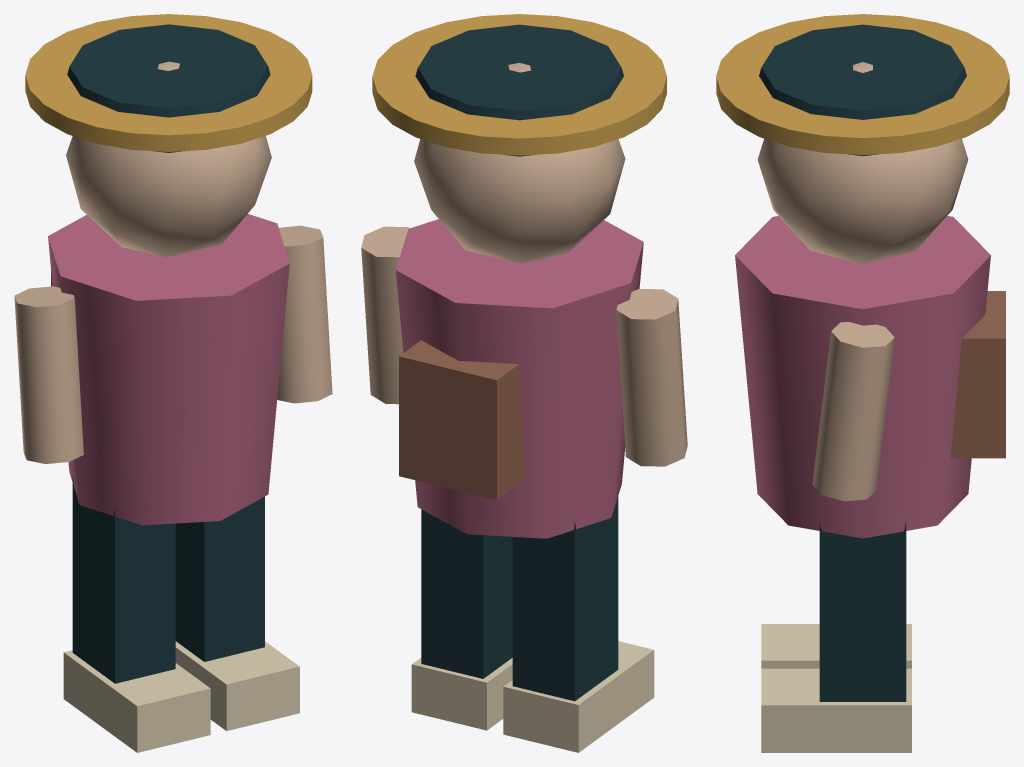
The model's file is guest_e.glb.
3 renders of one model, left to right at view 1: azimuth 30°, elevation 25°; view 2: azimuth 150°, elevation 25°; view 3: azimuth 270°, elevation 25°, orthographic. The views are drawn at different scales.
Visible parts, largest first — view 1: guest_e; view 2: guest_e; view 3: guest_e.
Boxes of the visible parts, x1,y1,x2,y2 form: guest_e: (14,14,332,752); guest_e: (361,14,687,752); guest_e: (716,14,1009,752).
Size of the model in its own units: 0.95 by 1.9 by 0.78.
